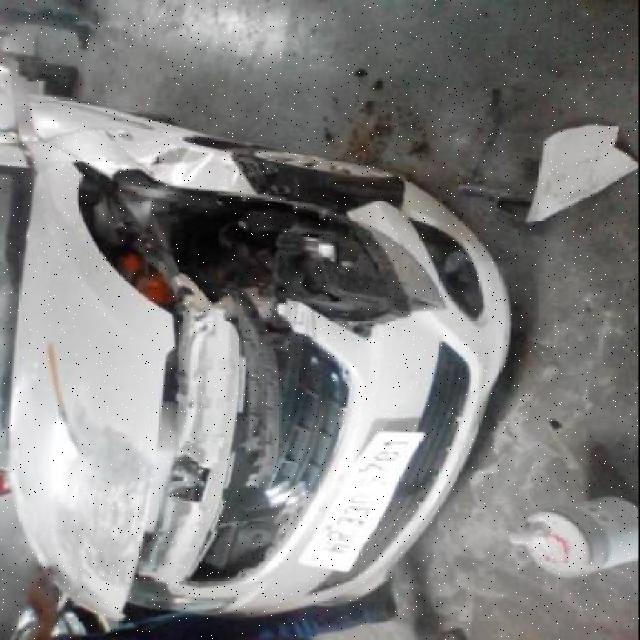damage: (169, 300, 358, 596), (190, 185, 450, 338), (51, 404, 153, 588), (108, 144, 246, 192)
